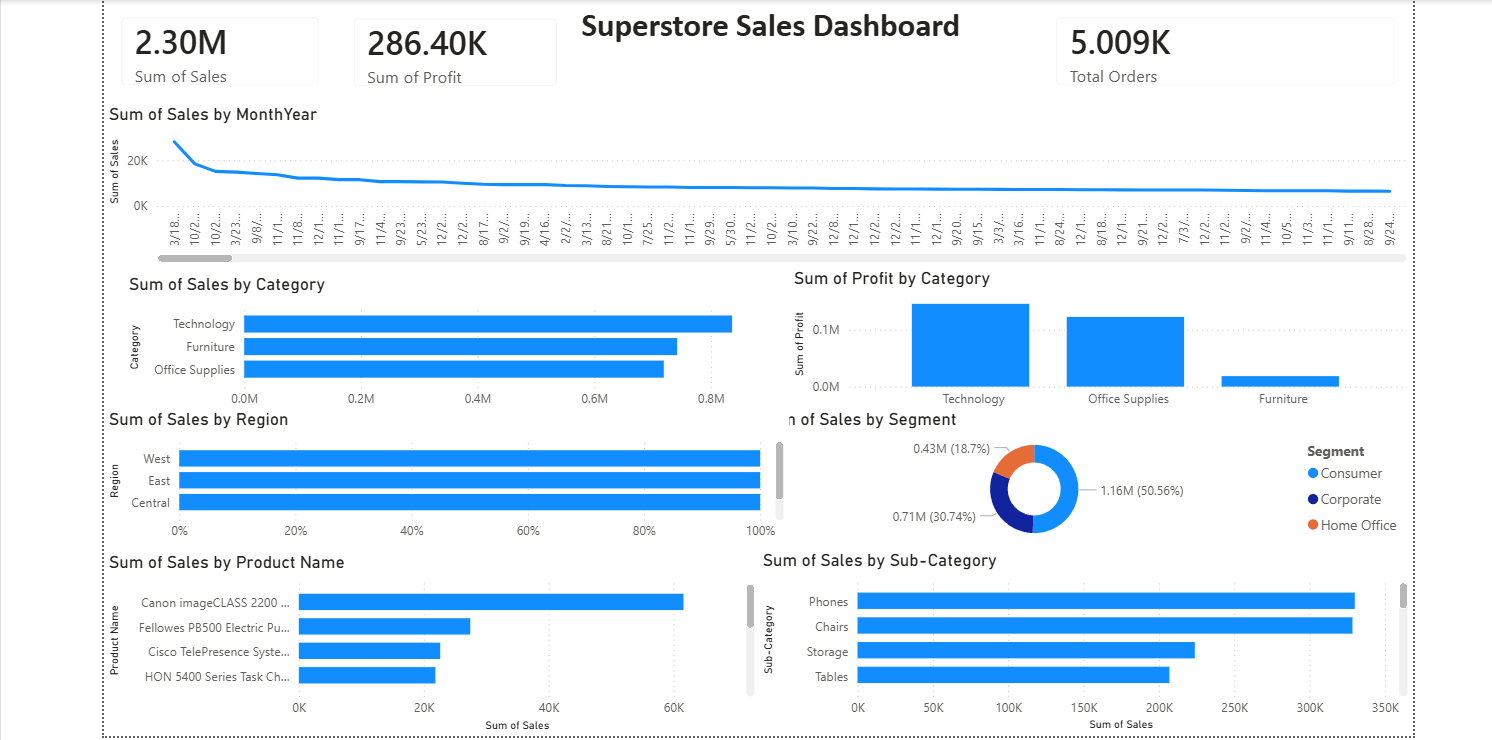

What the dashboard file says about the page in this screenshot:
{"tool":"powerbi","page":{"name":"Dashboard","canvas":[1280,720],"ordinal":2},"visuals":[{"type":"cardVisual","fields":{"Data":["Sum(Sample - Superstore.Sales)"]},"box":[0,0,227.8,100.2],"z":0},{"type":"cardVisual","fields":{"Data":["Sum(Sample - Superstore.Profit)"]},"box":[227.8,1.4,233.3,100.2],"z":1000},{"type":"barChart","fields":{"Category":["Sample - Superstore.Category"],"Y":["Sum(Sample - Superstore.Sales)"]},"box":[19.6,267.8,650.5,140.6],"z":3000},{"type":"clusteredColumnChart","fields":{"Category":["Sample - Superstore.Category"],"Y":["Sum(Sample - Superstore.Profit)"]},"box":[670.1,261.7,610.2,146.7],"z":4000},{"type":"hundredPercentStackedBarChart","fields":{"Category":["Sample - Superstore.Region"],"Y":["Sum(Sample - Superstore.Sales)"]},"box":[19.6,408.4,621.2,138.2],"z":5000},{"type":"donutChart","fields":{"Category":["Sample - Superstore.Segment"],"Y":["Sum(Sample - Superstore.Sales)"]},"box":[638.3,399.9,640.8,138.2],"z":6000},{"type":"clusteredBarChart","fields":{"Category":["Sample - Superstore.Product Name"],"Y":["Sum(Sample - Superstore.Sales)"]},"box":[0,546.6,640.8,163.9],"z":7000},{"type":"clusteredBarChart","fields":{"Category":["Sample - Superstore.Sub-Category"],"Y":["Sum(Sample - Superstore.Sales)"]},"box":[639.5,538,640.8,182.2],"z":8000},{"type":"textbox","box":[451.5,0,402.1,50.8],"z":9000},{"type":"cardVisual","fields":{"Data":["Count(Sample - Superstore.Order ID)"]},"box":[915.3,0,365,100.2],"z":10000},{"type":"lineChart","fields":{"Category":["Sample - Superstore.MonthYear"],"Y":["Sum(Sample - Superstore.Sales)"]},"box":[0,101.5,1279.1,160.2],"z":10001}]}

Visuals, with their boxes on the page's 1280x720 design canvas (x1, y1, x2, y2). These are canvas units, not pixel positions in the 1492x740 screenshot, which may show the page scaled, cropped or inside an application window:
cardVisual - Sum(Sample - Superstore.Sales): (x1=0, y1=0, x2=228, y2=100)
cardVisual - Sum(Sample - Superstore.Profit): (x1=228, y1=1, x2=461, y2=102)
barChart - Sample - Superstore.Category x Sum(Sample - Superstore.Sales): (x1=20, y1=268, x2=670, y2=408)
clusteredColumnChart - Sample - Superstore.Category x Sum(Sample - Superstore.Profit): (x1=670, y1=262, x2=1280, y2=408)
hundredPercentStackedBarChart - Sample - Superstore.Region x Sum(Sample - Superstore.Sales): (x1=20, y1=408, x2=641, y2=547)
donutChart - Sample - Superstore.Segment x Sum(Sample - Superstore.Sales): (x1=638, y1=400, x2=1279, y2=538)
clusteredBarChart - Sample - Superstore.Product Name x Sum(Sample - Superstore.Sales): (x1=0, y1=547, x2=641, y2=710)
clusteredBarChart - Sample - Superstore.Sub-Category x Sum(Sample - Superstore.Sales): (x1=640, y1=538, x2=1280, y2=720)
textbox: (x1=452, y1=0, x2=854, y2=51)
cardVisual - Count(Sample - Superstore.Order ID): (x1=915, y1=0, x2=1280, y2=100)
lineChart - Sample - Superstore.MonthYear x Sum(Sample - Superstore.Sales): (x1=0, y1=102, x2=1279, y2=262)
